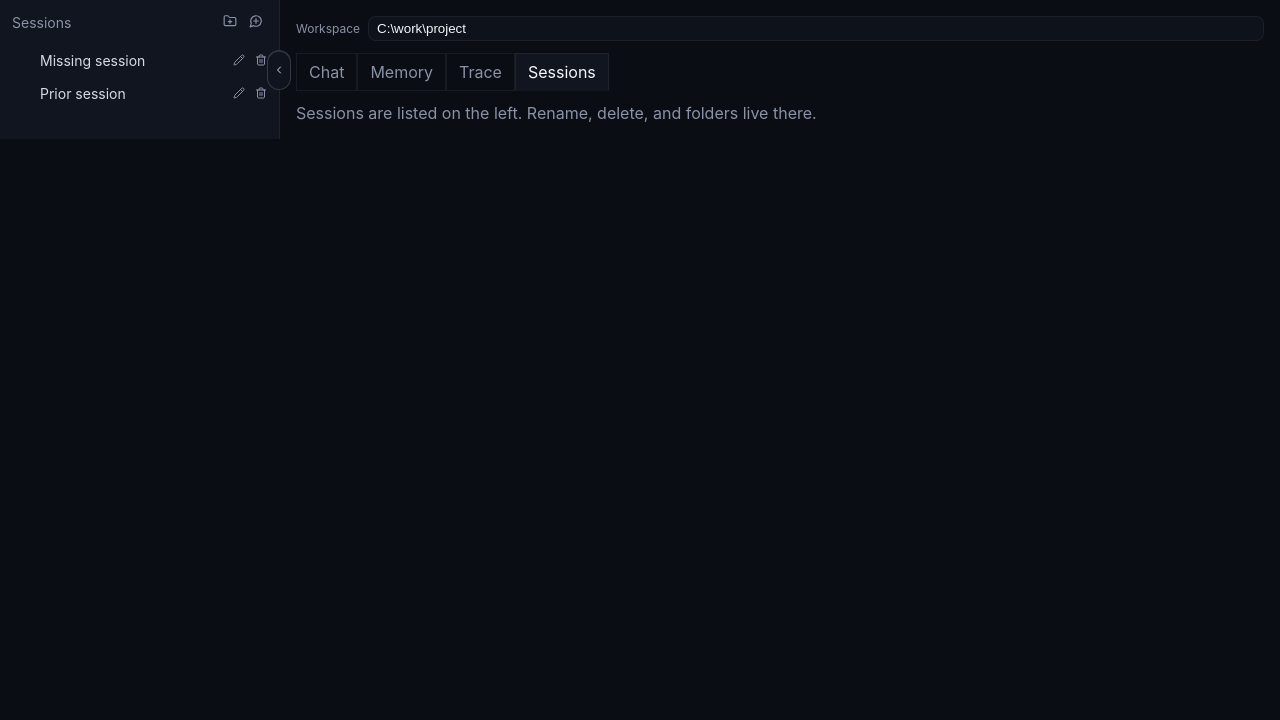
Scenario: CodingPage › renames and deletes a listed Agents session
The width and height of the screenshot is (1280, 720).
Click the button with test id "tree-rename-prev-1": (239, 94) [229,81,249,106]
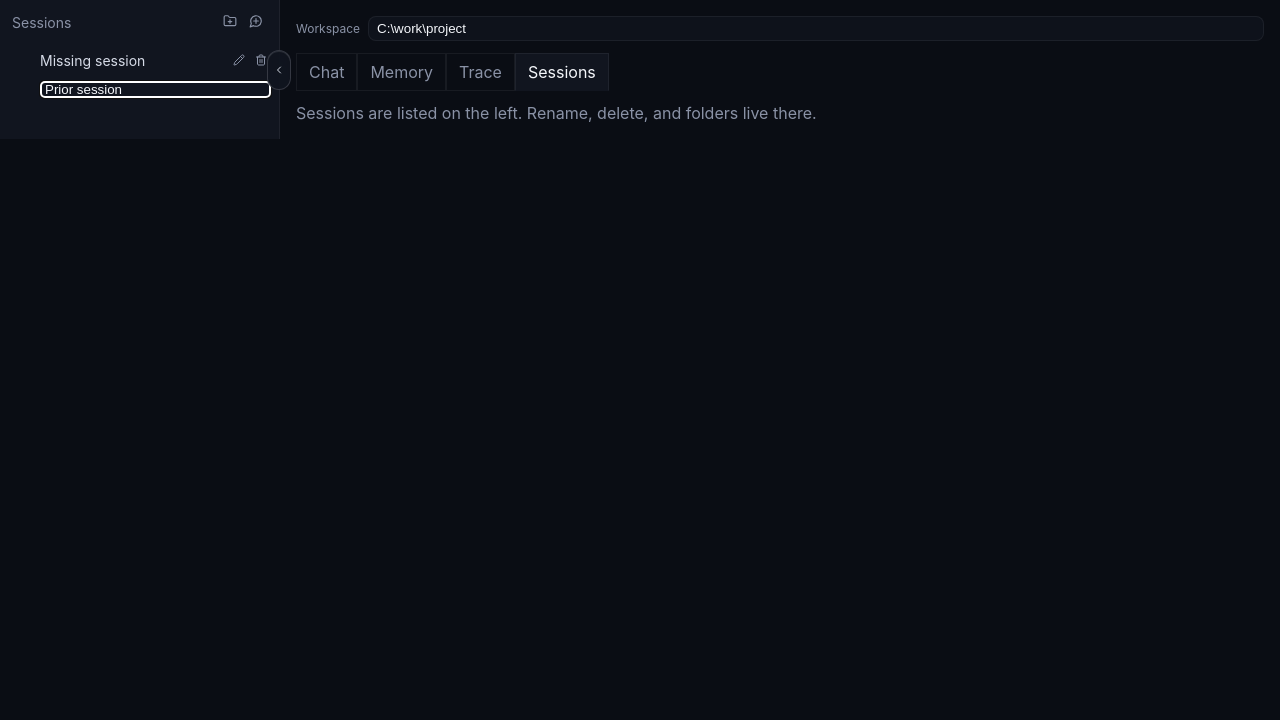
Replace the text in the field with test id "tree-rename-input-prev-1" with "Renamed agents": (156, 90) [40,81,271,98]
Then press Enter
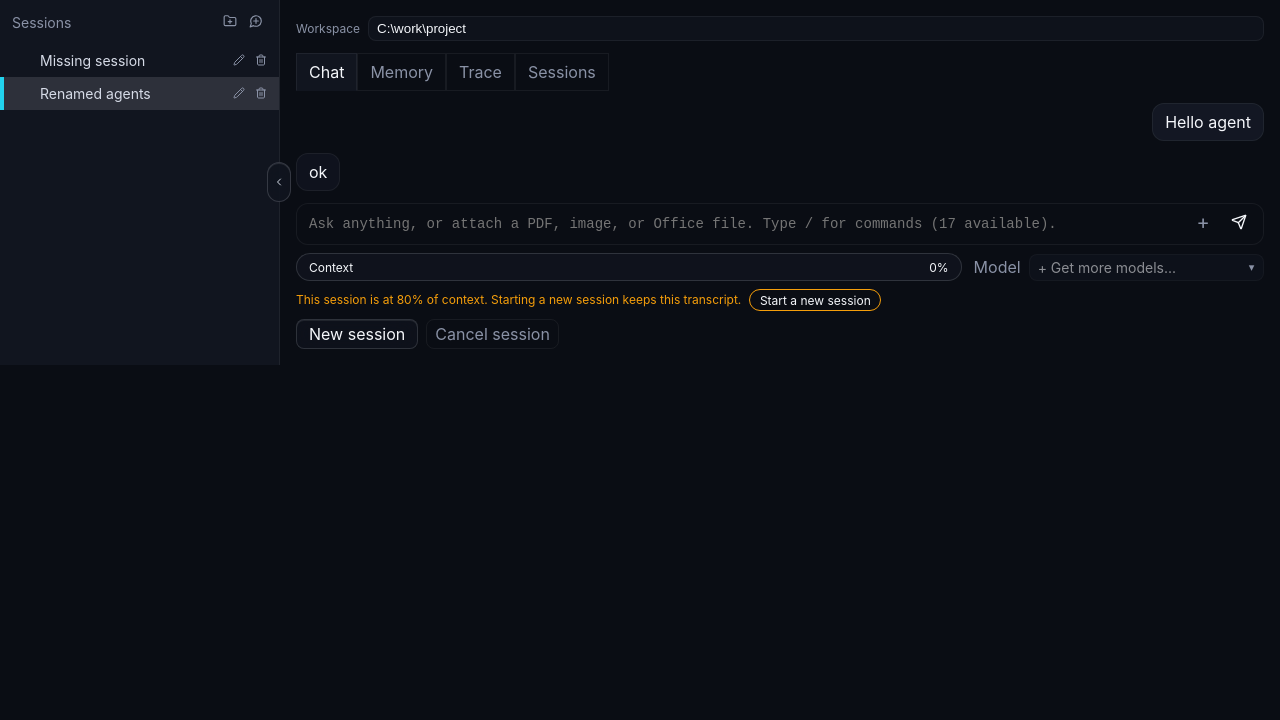
Check: the list item with test id "tree-row-chat-prev-1" reads "Renamed agents", box [40,85,151,102]
Click the button with test id "tree-delete-prev-1": (261, 94) [251,81,271,106]
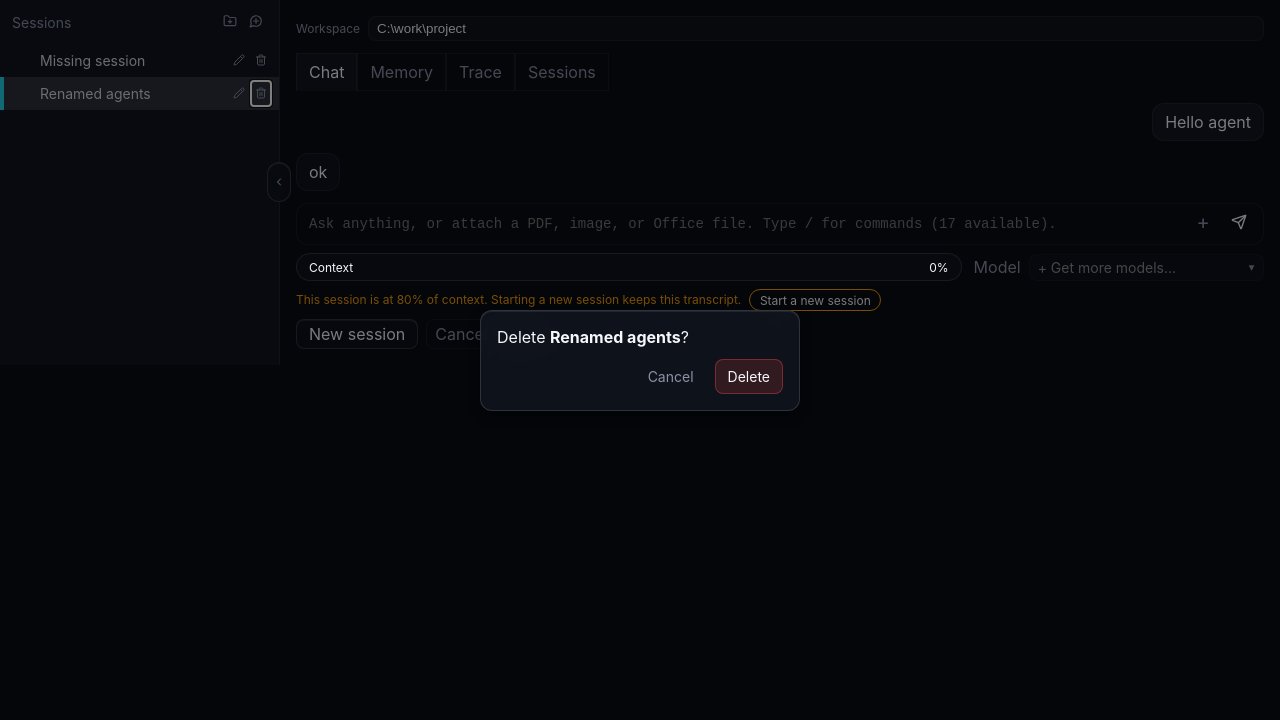
Click the button with test id "confirm-delete-ok": (749, 376) [715,358,783,394]
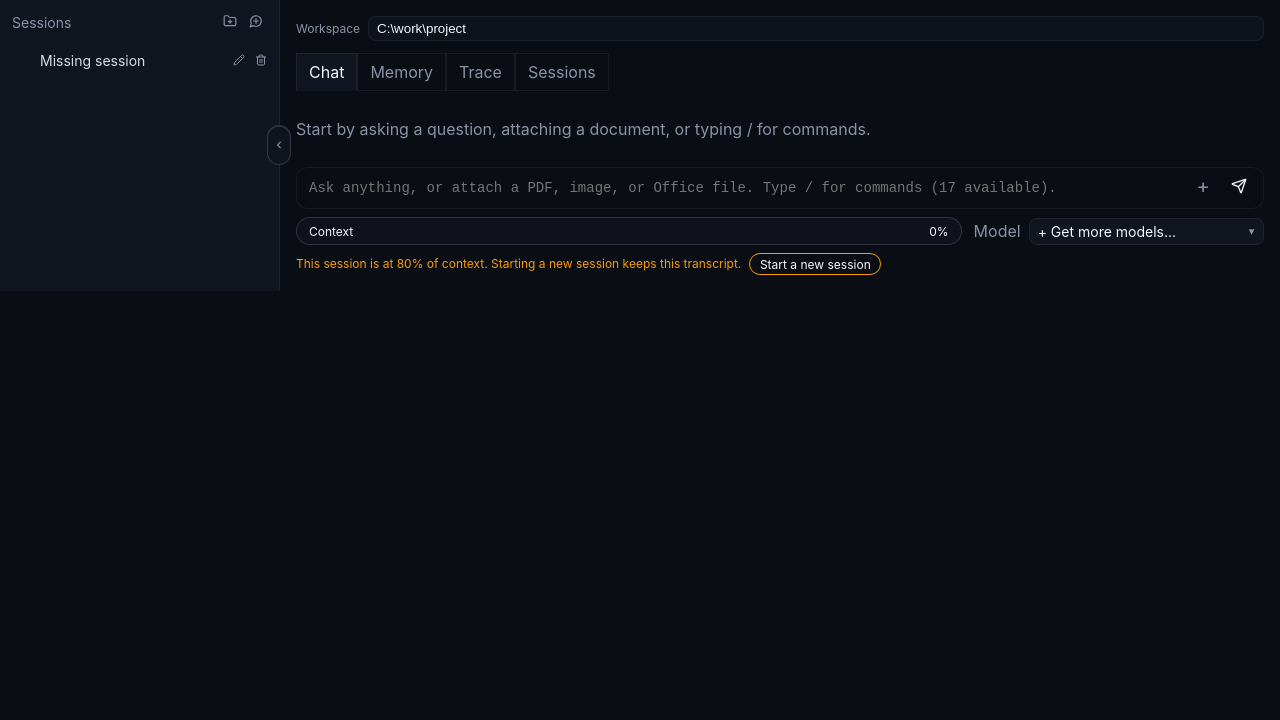
Check: the list item with test id "tree-row-chat-prev-1" is gone
